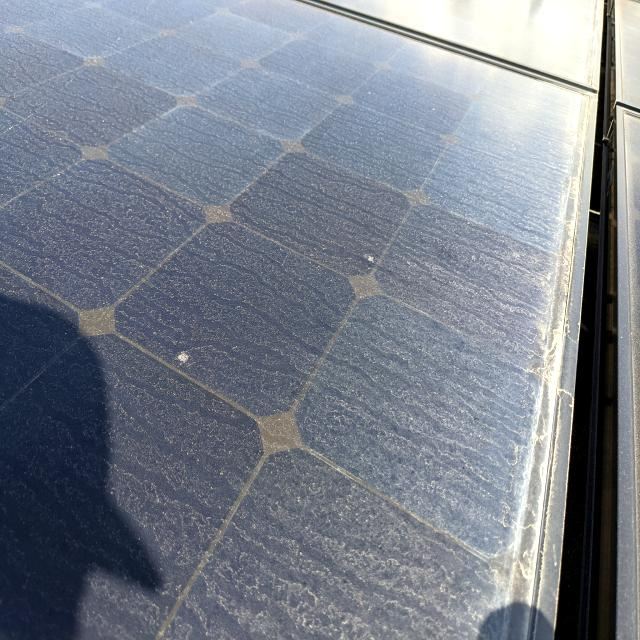dust: (350, 288, 522, 512), (176, 36, 372, 225), (17, 20, 137, 292), (23, 409, 192, 586), (158, 224, 314, 408), (274, 450, 386, 626), (397, 140, 524, 262)
